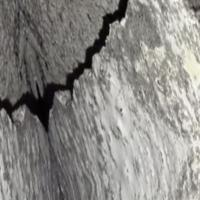crack: (2, 2, 138, 140)
